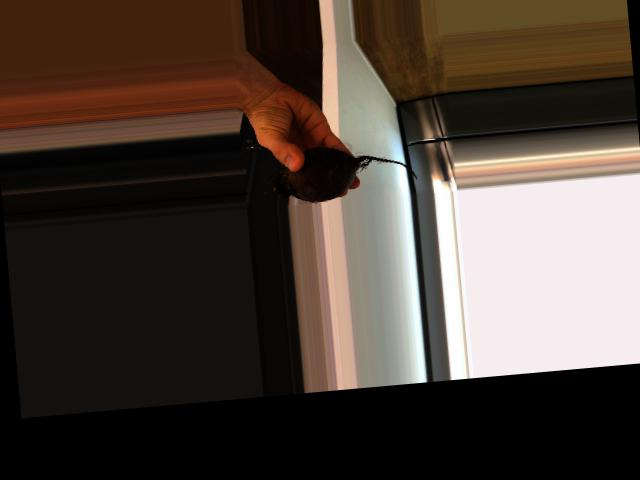beet: (265, 139, 418, 207)
